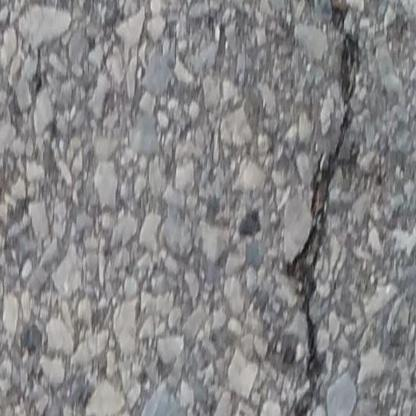Cracks: (285, 30, 364, 416)
